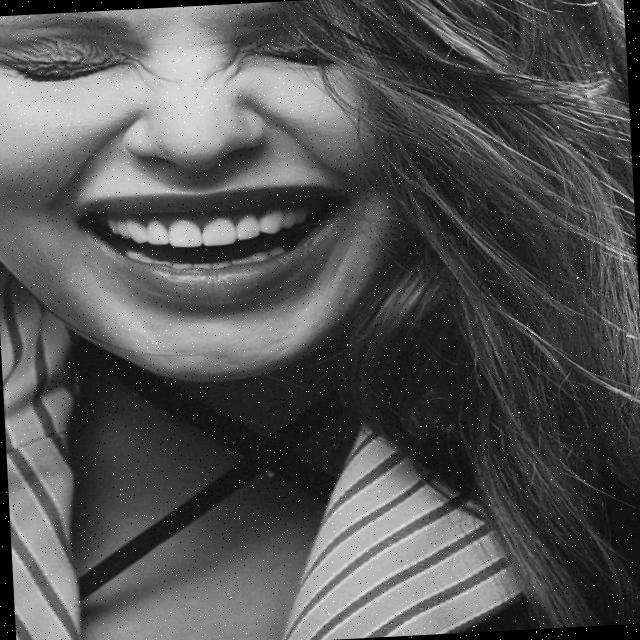Happiness: (0, 0, 407, 397)
